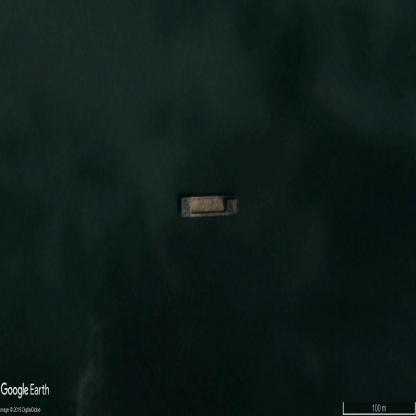ship: (180, 193, 240, 217)
